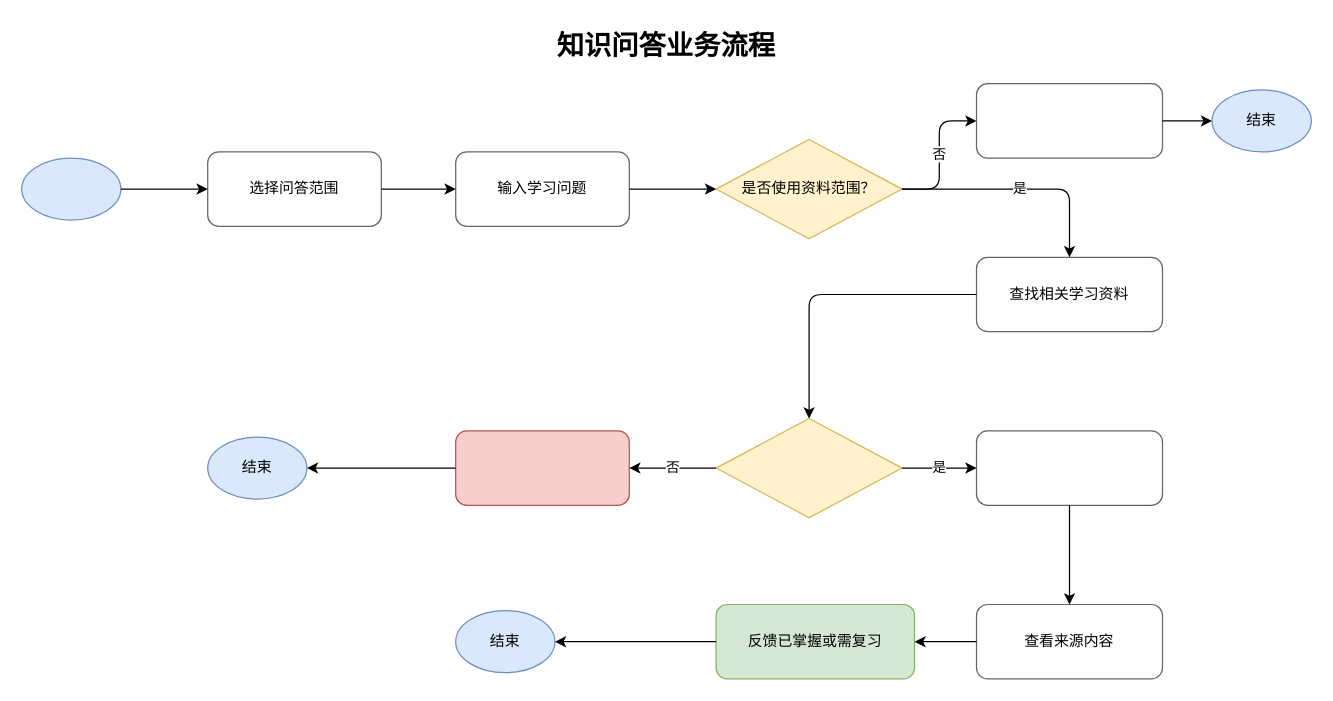
Image size: 1333x701. Some labels were removed from this diagram. The shapes that lost their labels are listed below. From the top down, each one's centre as x and y in pixels, then its label:
the point at 1068,120: 直接获得通用回答
the point at 70,188: 开始
the point at 541,467: 提示资料不足
the point at 808,467: 是否找到相关内容？
the point at 1068,467: 生成带来源的答案
